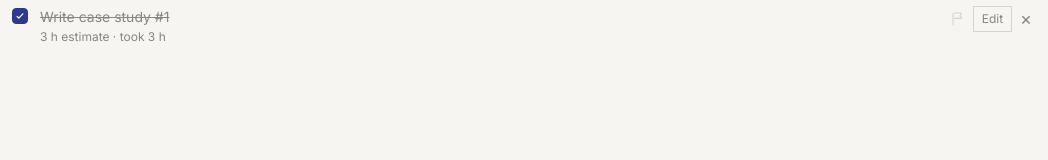
Test: TaskRow › reopens a done task
This screenshot has width=1048, height=160.
Click the checkbox named "Reopen Write case study #1". click: (20, 16)
box: [12,8,28,24]
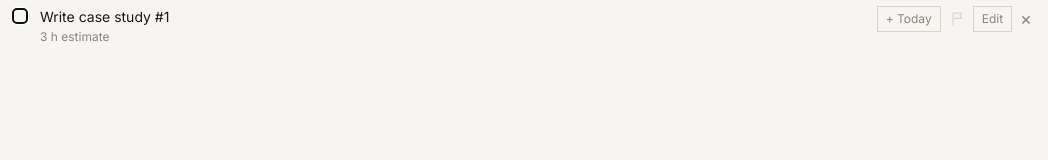
Expected: the checkbox named "Complete Write case study #1" is shown, [12,8,28,24]
